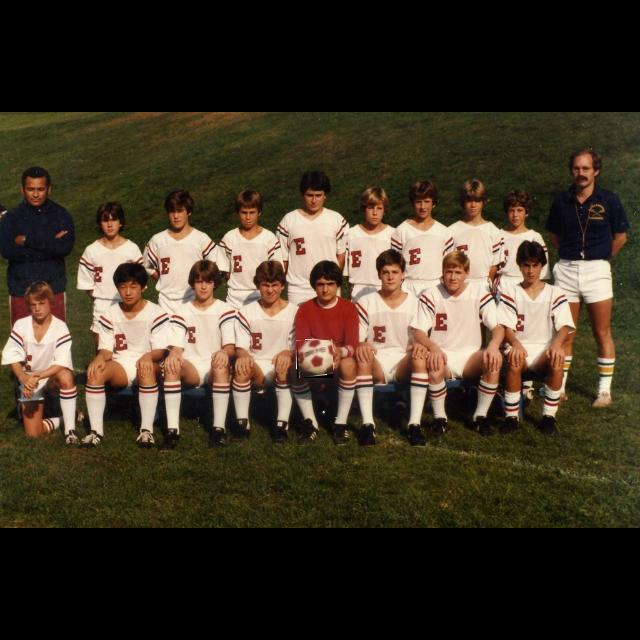Football: (297, 340, 333, 378)
